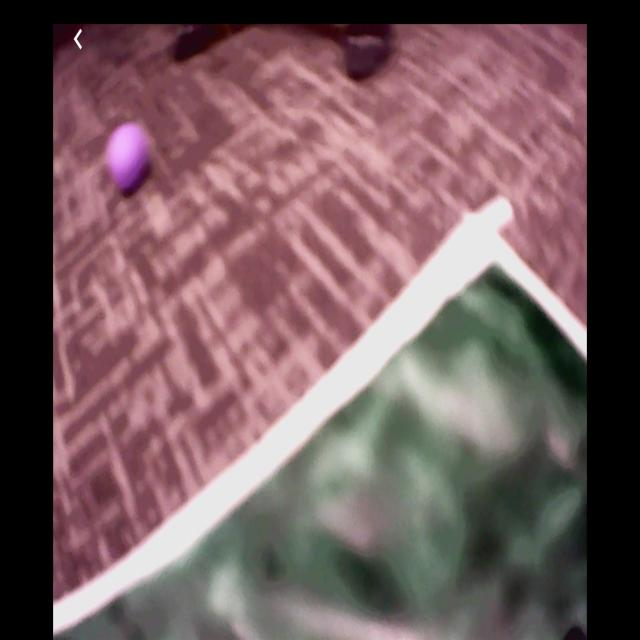ball: (108, 120, 151, 193)
